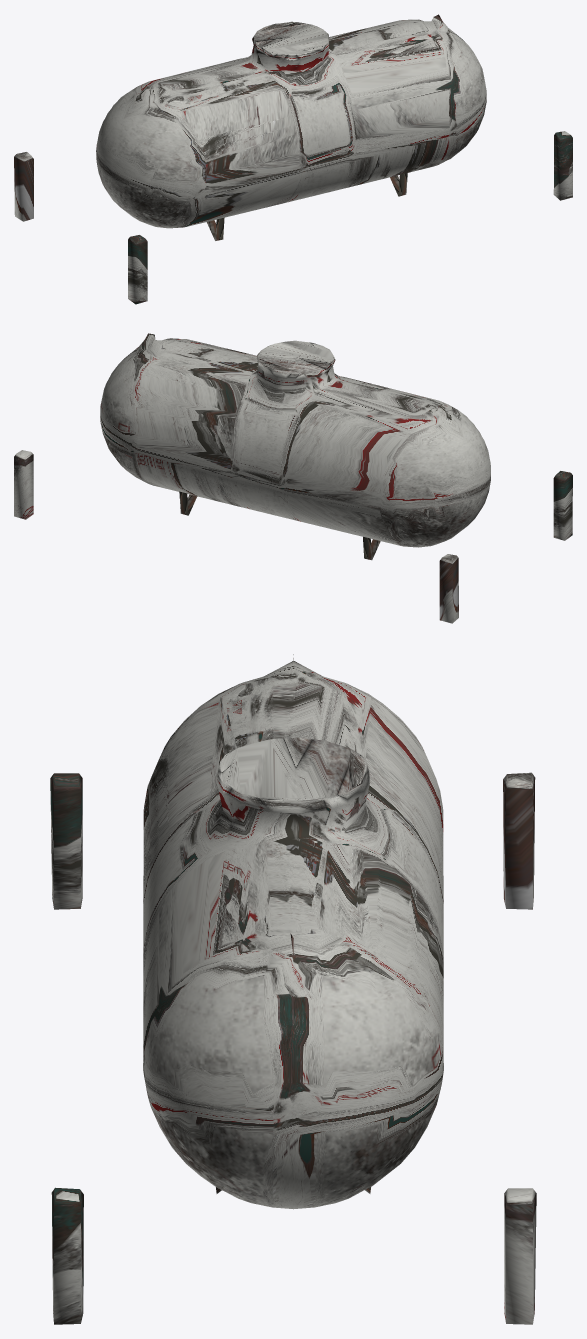
Rendered from gas_tanker.glb.
The picture shows the model from 3 angles, top to bottom: view 1: azimuth 30°, elevation 25°; view 2: azimuth 150°, elevation 25°; view 3: azimuth 270°, elevation 25°; orthographic projection. The views are drawn at different scales.
Parts seen in each view (by area): view 1: gas_tanker; view 2: gas_tanker; view 3: gas_tanker.
Part boxes in pixels (box(x1,y1,x2,y2)): gas_tanker: box(14, 14, 572, 304); gas_tanker: box(14, 333, 572, 623); gas_tanker: box(50, 654, 536, 1324).
Bounding box in the file's own units: 4.76 × 1.77 × 2.28.
1 material, 1 textured.
